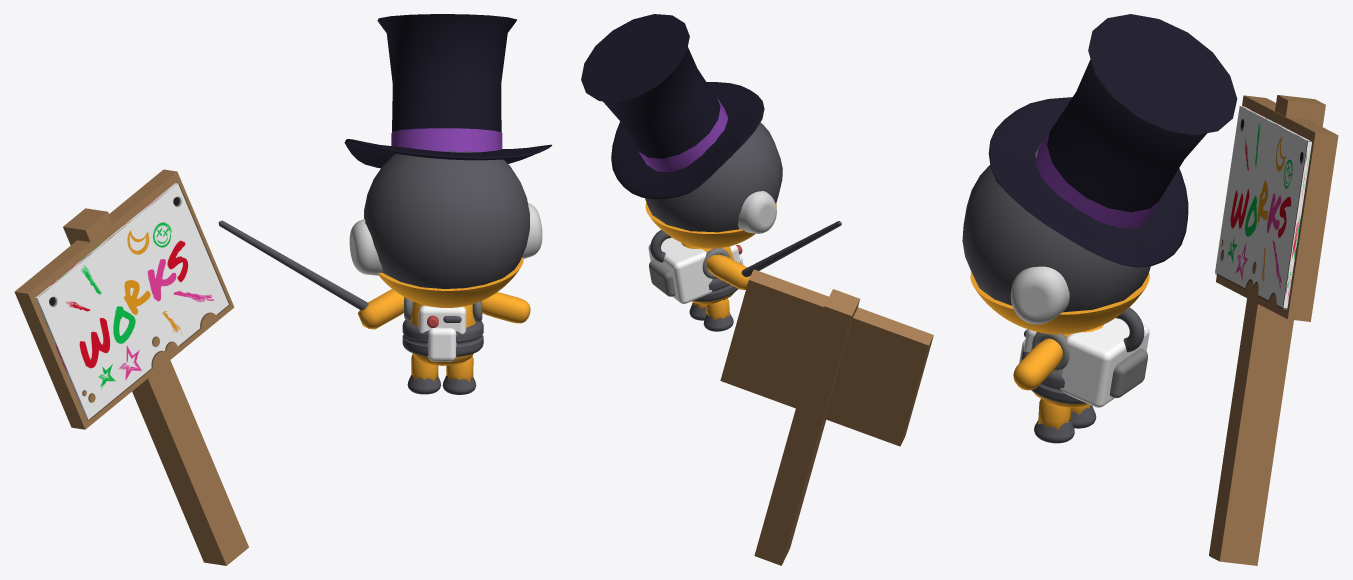
File: works-joey-1.gltf
3 views of the same model, side by side, from view 1: azimuth 30°, elevation 25°; view 2: azimuth 150°, elevation 25°; view 3: azimuth 270°, elevation 25° (orthographic). The views are drawn at different scales.
Parts seen in each view (by area): view 1: Cube 3, head-glass, tophat, Cube, Cube 2, colorpart, base, head-glass-bottom, Cone, belt, ear-right, arm-right (+5 smaller); view 2: Cube 2, tophat, Cube, head-glass, base, backpack-main, head-glass-bottom, colorpart, ear-right, arm-right, Cone, backpack-mini (+1 smaller); view 3: tophat, Cube, Cube 3, base, head-glass, Cube 2, backpack-main, ear-left, head-glass-bottom, colorpart, arm-left, backpack-mini (+5 smaller).
Part boxes in pixels (<box>): Cube 3: <box>35,182,229,420</box>; head-glass: <box>364,151,529,288</box>; tophat: <box>377,14,516,132</box>; Cube: <box>63,208,248,565</box>; Cube 2: <box>14,169,234,429</box>; colorpart: <box>391,128,502,152</box>; base: <box>344,139,552,168</box>; head-glass-bottom: <box>378,257,523,307</box>; Cone: <box>218,220,368,310</box>; belt: <box>402,320,483,356</box>; ear-right: <box>349,219,382,275</box>; arm-right: <box>357,289,404,329</box>; Cube 2: <box>720,269,933,446</box>; tophat: <box>581,14,720,158</box>; Cube: <box>754,289,859,565</box>; head-glass: <box>645,122,782,232</box>; base: <box>611,82,764,199</box>; backpack-main: <box>648,237,712,303</box>; head-glass-bottom: <box>645,202,776,248</box>; colorpart: <box>639,97,728,172</box>; ear-right: <box>738,191,776,233</box>; arm-right: <box>706,254,750,289</box>; Cone: <box>741,221,841,277</box>; backpack-mini: <box>649,260,675,296</box>; tophat: <box>1047,14,1237,212</box>; Cube: <box>1209,95,1325,565</box>; Cube 3: <box>1215,106,1311,309</box>; base: <box>988,97,1188,267</box>; head-glass: <box>962,143,1150,312</box>; Cube 2: <box>1216,95,1338,321</box>; backpack-main: <box>1059,318,1149,407</box>; ear-left: <box>1010,266,1069,324</box>; head-glass-bottom: <box>970,272,1149,334</box>; colorpart: <box>1035,130,1160,228</box>; arm-left: <box>1013,338,1062,390</box>; backpack-mini: <box>1109,348,1147,398</box>.
Size of the model in its own units: 1.65 by 1.94 by 1.03.
27 materials, 1 textured.
